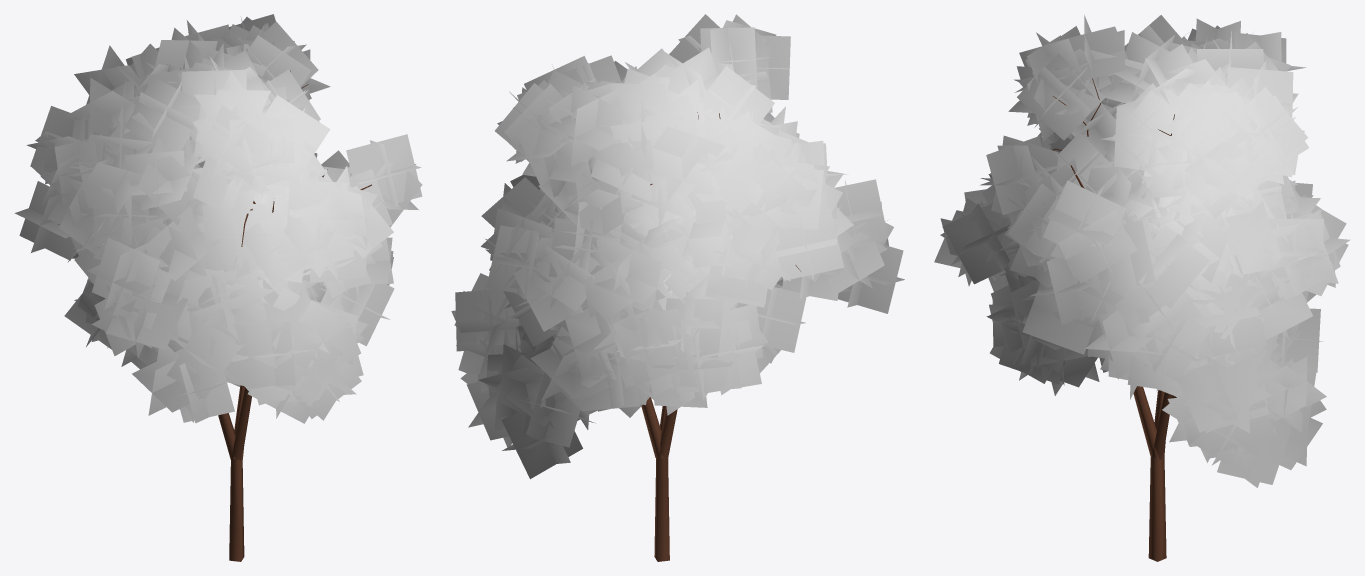
File: T2Tree5.fbx
The picture shows the model from 3 angles, left to right: view 1: azimuth 30°, elevation 25°; view 2: azimuth 150°, elevation 25°; view 3: azimuth 270°, elevation 25°; orthographic projection.
Visible parts, largest first — view 1: Leaves_2.5B, Leaves_2.5A, Bark2.5; view 2: Leaves_2.5B, Leaves_2.5A, Bark2.5; view 3: Leaves_2.5B, Leaves_2.5A, Bark2.5.
Boxes of the visible parts, bbox=[...] form: Leaves_2.5B: bbox=[26, 21, 422, 423]; Leaves_2.5A: bbox=[14, 14, 422, 422]; Bark2.5: bbox=[58, 70, 371, 561]; Leaves_2.5B: bbox=[458, 14, 904, 479]; Leaves_2.5A: bbox=[451, 14, 903, 447]; Bark2.5: bbox=[641, 112, 800, 561]; Leaves_2.5B: bbox=[934, 15, 1348, 484]; Leaves_2.5A: bbox=[940, 14, 1350, 487]; Bark2.5: bbox=[1052, 78, 1176, 561].
Bounding box in the file's own units: 5.7 × 7.48 × 5.45.
